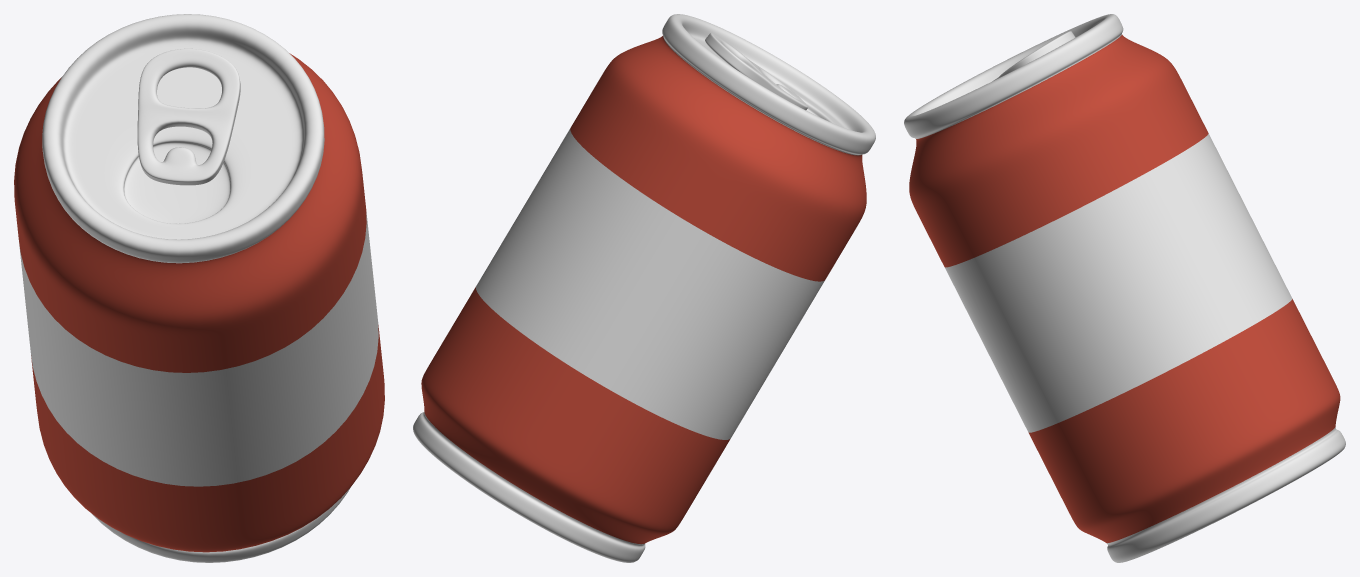
The model's file is Coke.fbx.
The picture shows the model from 3 angles, left to right: view 1: azimuth 30°, elevation 25°; view 2: azimuth 150°, elevation 25°; view 3: azimuth 270°, elevation 25°; orthographic projection. The views are drawn at different scales.
Parts seen in each view (by area): view 1: soda_cup.015_Circle.053, soda_cup.016_Circle.054; view 2: soda_cup.015_Circle.053, soda_cup.016_Circle.054; view 3: soda_cup.015_Circle.053, soda_cup.016_Circle.054.
Part boxes in pixels (x1,y1,x2,y2): soda_cup.015_Circle.053: [14, 14, 384, 562]; soda_cup.016_Circle.054: [137, 48, 240, 185]; soda_cup.015_Circle.053: [413, 14, 875, 562]; soda_cup.016_Circle.054: [705, 33, 807, 110]; soda_cup.015_Circle.053: [904, 14, 1345, 562]; soda_cup.016_Circle.054: [992, 31, 1075, 81].
Bounding box in the file's own units: 134 × 184 × 149.
